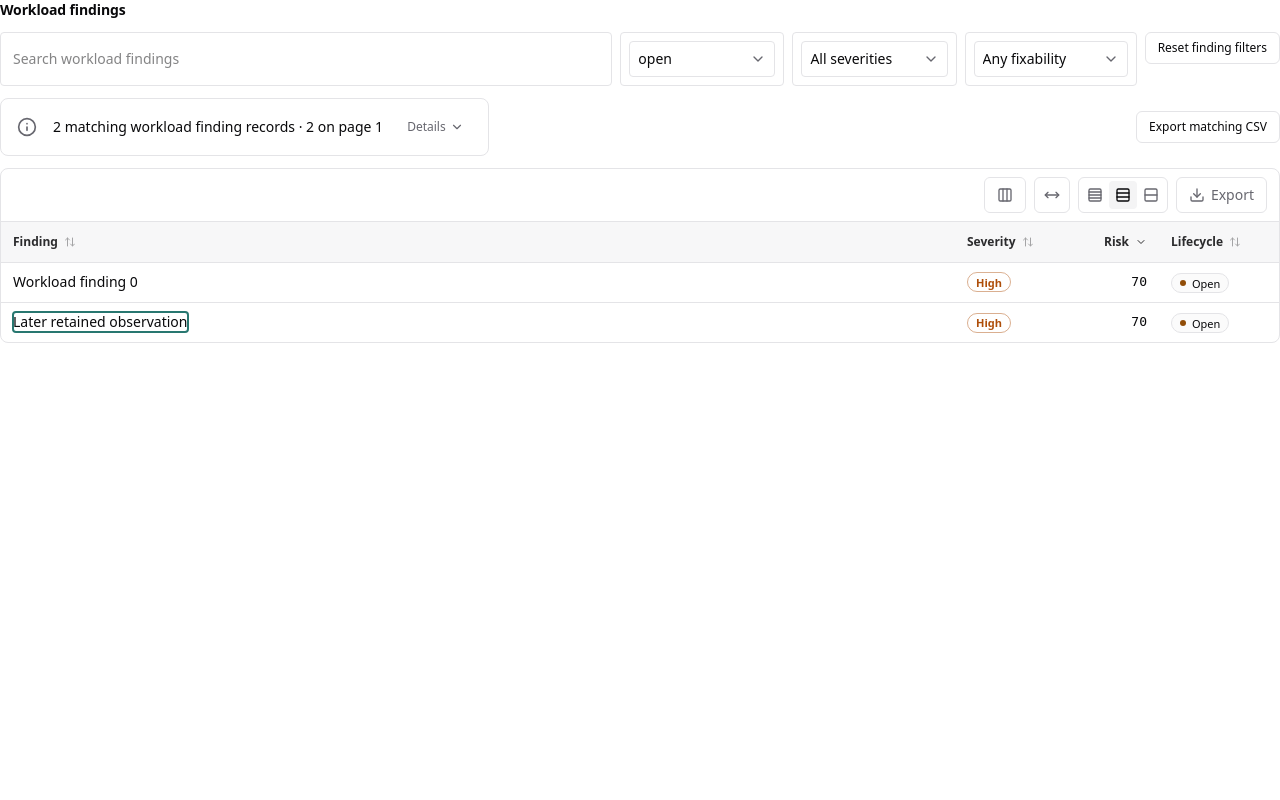
it: distinguishes same UUID historical observations by full timestamp and uses read-only meaningful inspection
This screenshot has width=1280, height=800.
Click the button "Later retained observation" at coordinates (100, 322), box x1=13 y1=312 x2=188 y2=332
(page scrolled)
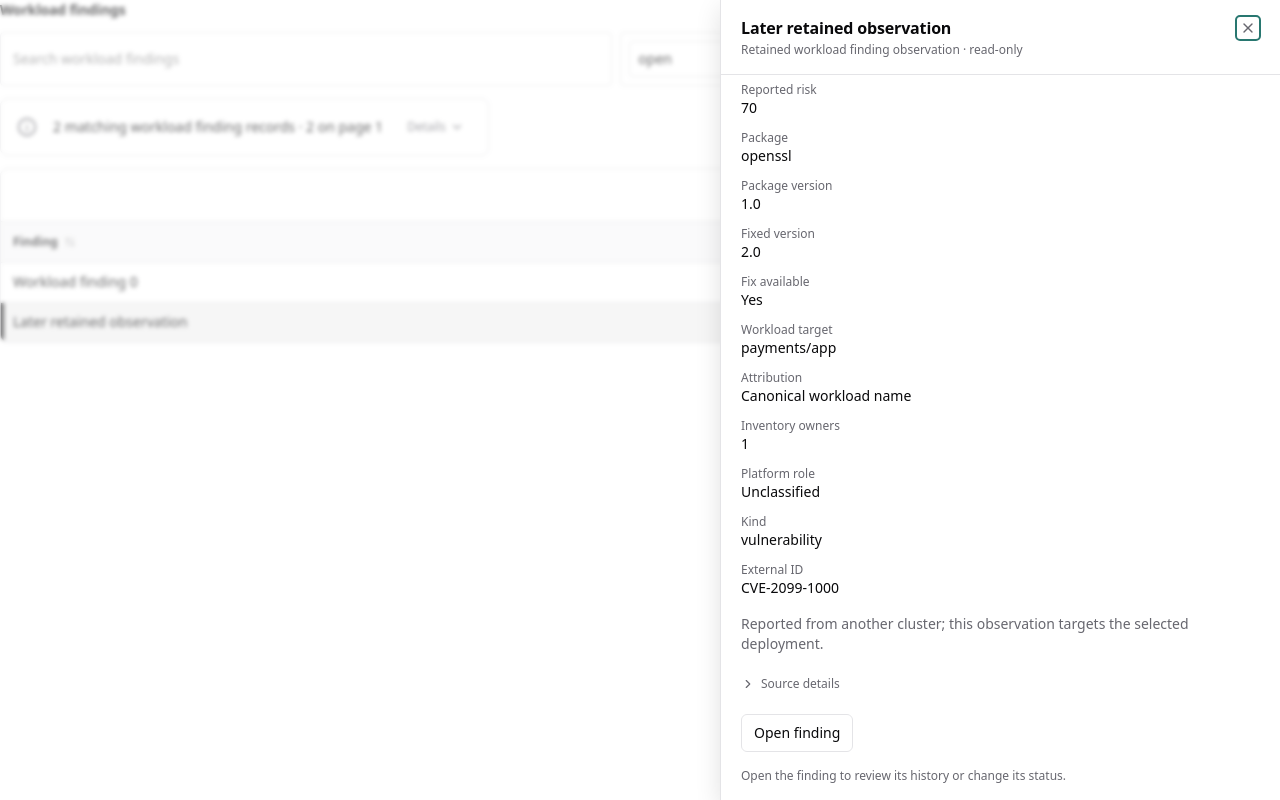
Now the element with test id "deployment-finding-record" is shown, box x1=741 y1=75 x2=1260 y2=784
Now the element with test id "deployment-finding-record" shows "Reported from another cluster", box x1=741 y1=614 x2=1189 y2=653
Now the heading "Source details" is shown
Click the heading "Source details" at coordinates (790, 684), box x1=741 y1=675 x2=840 y2=692
(page scrolled)
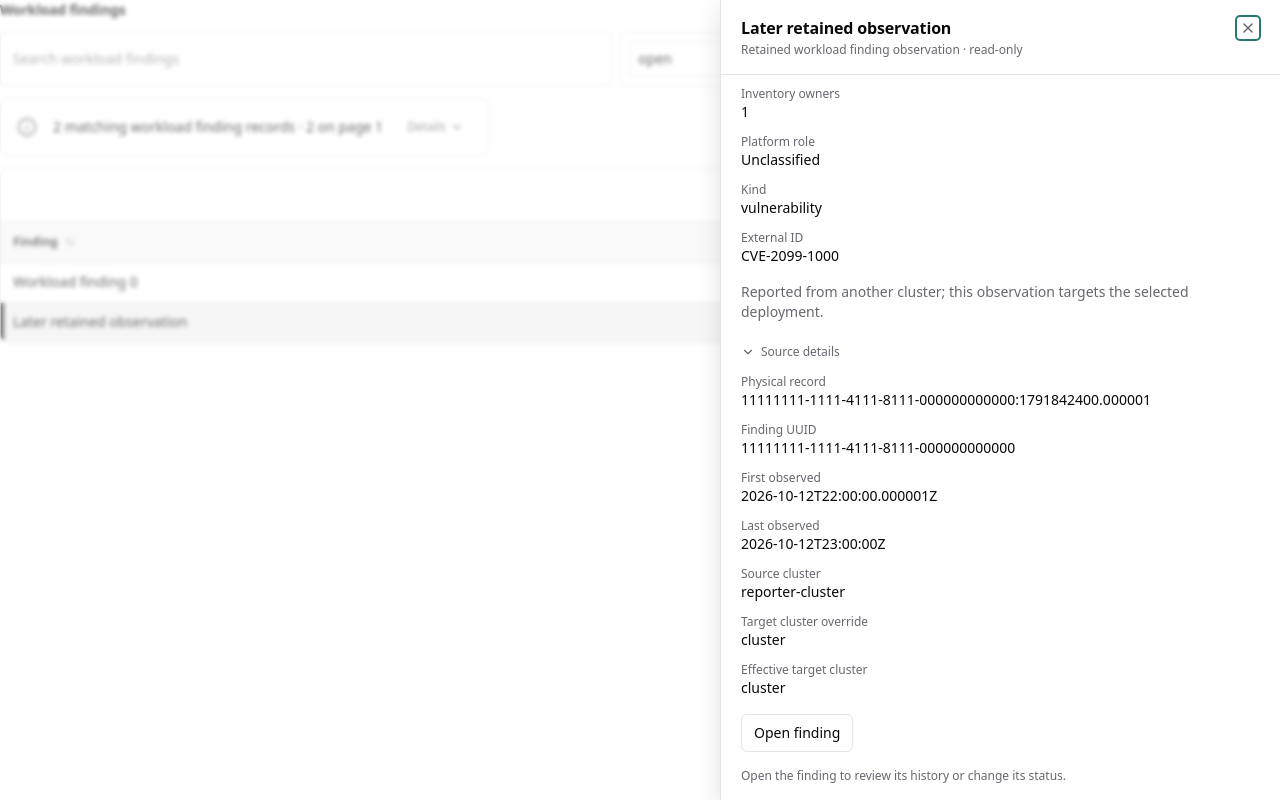
Now the element with test id "deployment-finding-record" shows "2026-10-12T22:00:00.000001Z", box x1=741 y1=486 x2=937 y2=505
